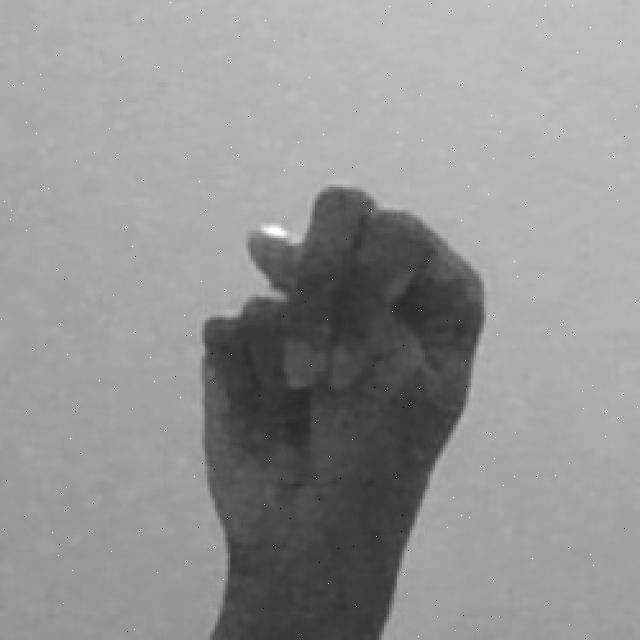N: (195, 176, 490, 640)
